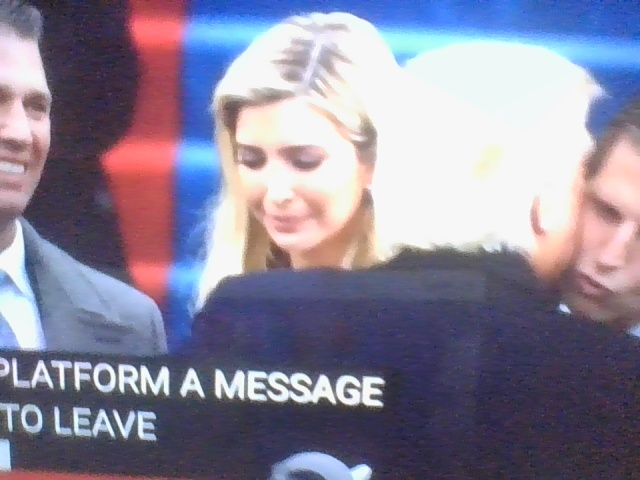fake: (216, 25, 388, 269)
